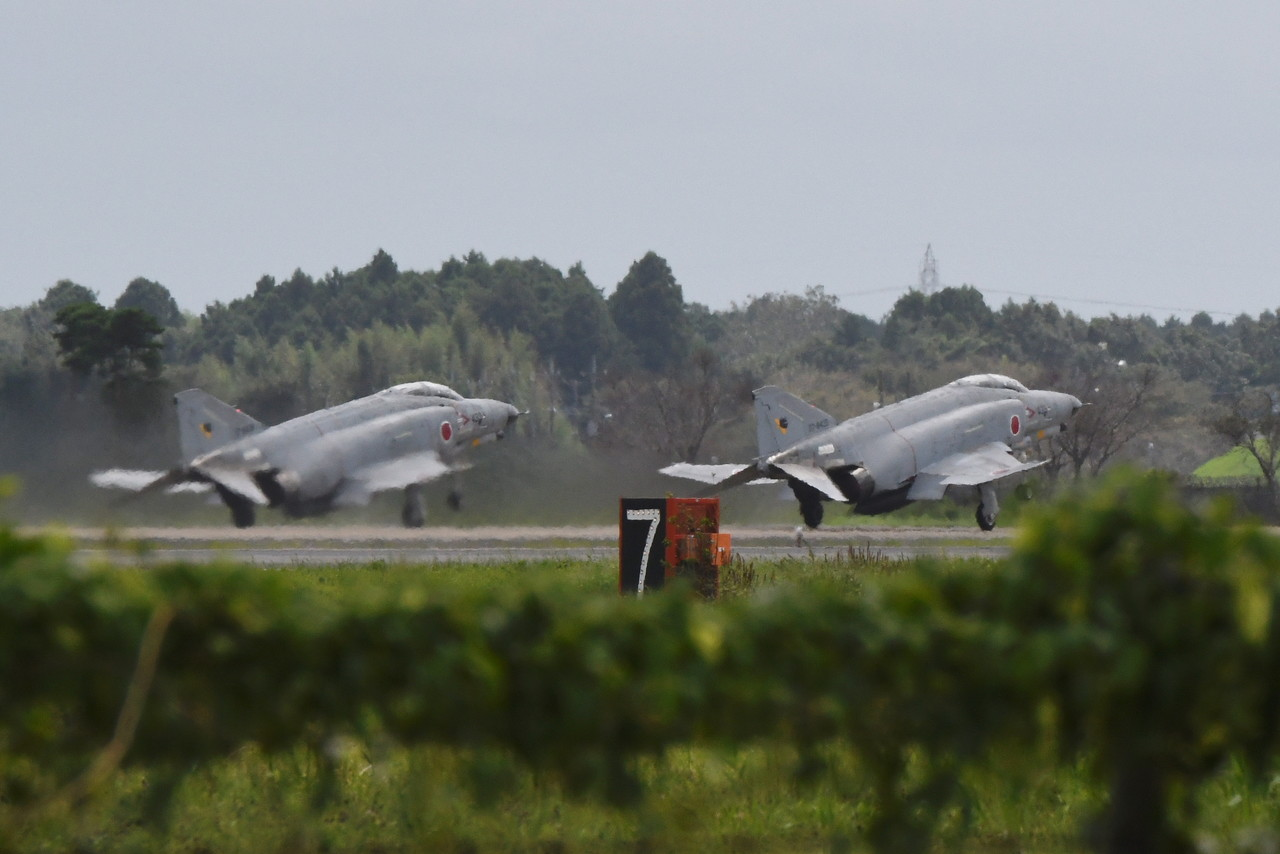F4: (658, 373, 1094, 531), (89, 381, 532, 527)
